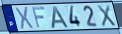2: (83, 5, 99, 27)
4: (69, 5, 83, 29)
A: (51, 6, 70, 29)
F: (31, 6, 47, 30)
X: (14, 6, 35, 30), (96, 4, 117, 28)
